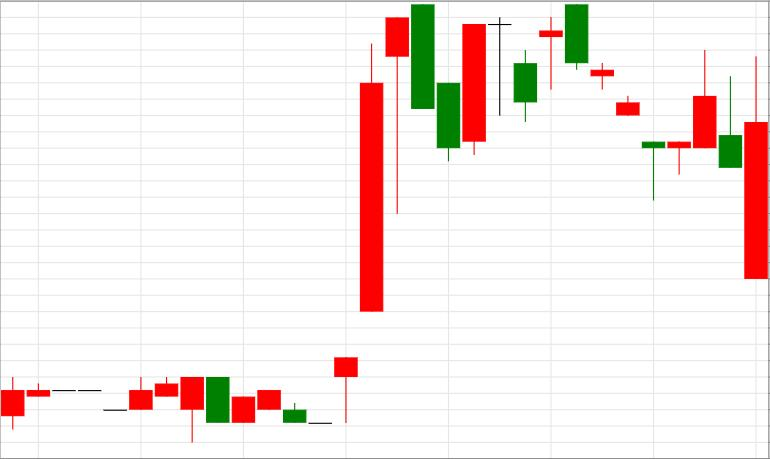hanging_man_fall: (282, 17, 409, 424)
